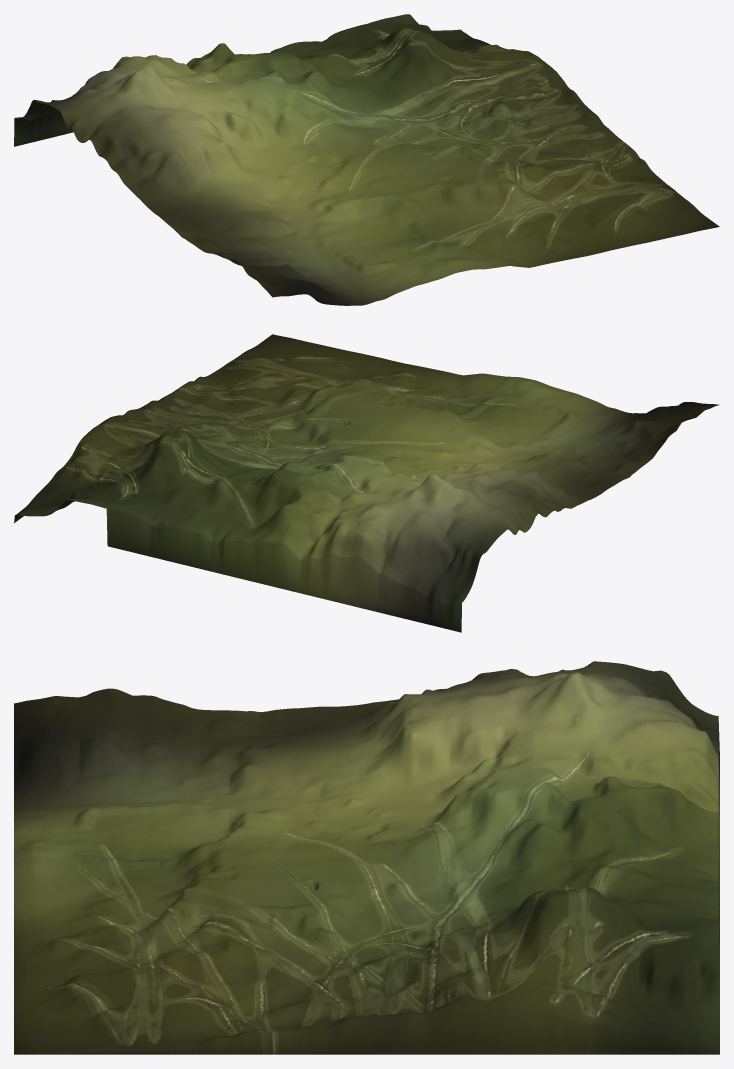
The model's file is Terrain2.fbx.
3 renders of one model, top to bottom at view 1: azimuth 30°, elevation 25°; view 2: azimuth 150°, elevation 25°; view 3: azimuth 270°, elevation 25°, orthographic. The views are drawn at different scales.
Visible parts, largest first — view 1: Terrain; view 2: Terrain; view 3: Terrain.
Part boxes in pixels (x1=…): Terrain: x1=14, y1=14, x2=719, y2=305; Terrain: x1=14, y1=334, x2=719, y2=632; Terrain: x1=14, y1=661, x2=719, y2=1054.
Bounding box in the file's own units: 12000 × 2542 × 12000.
